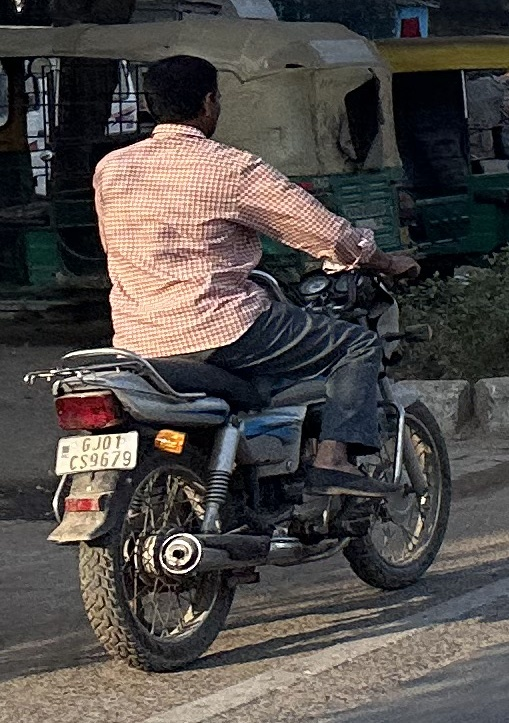BikeWithRider: (16, 43, 463, 679)
NoHelmet: (129, 47, 235, 143)
